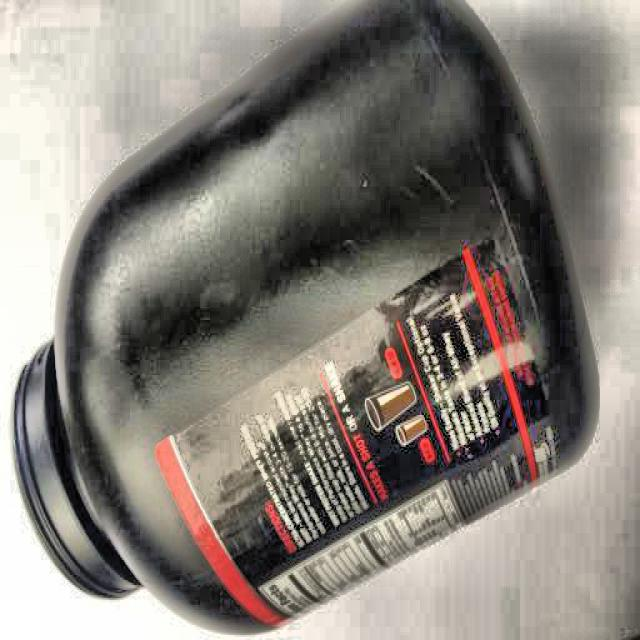plastic: (8, 0, 612, 621)
